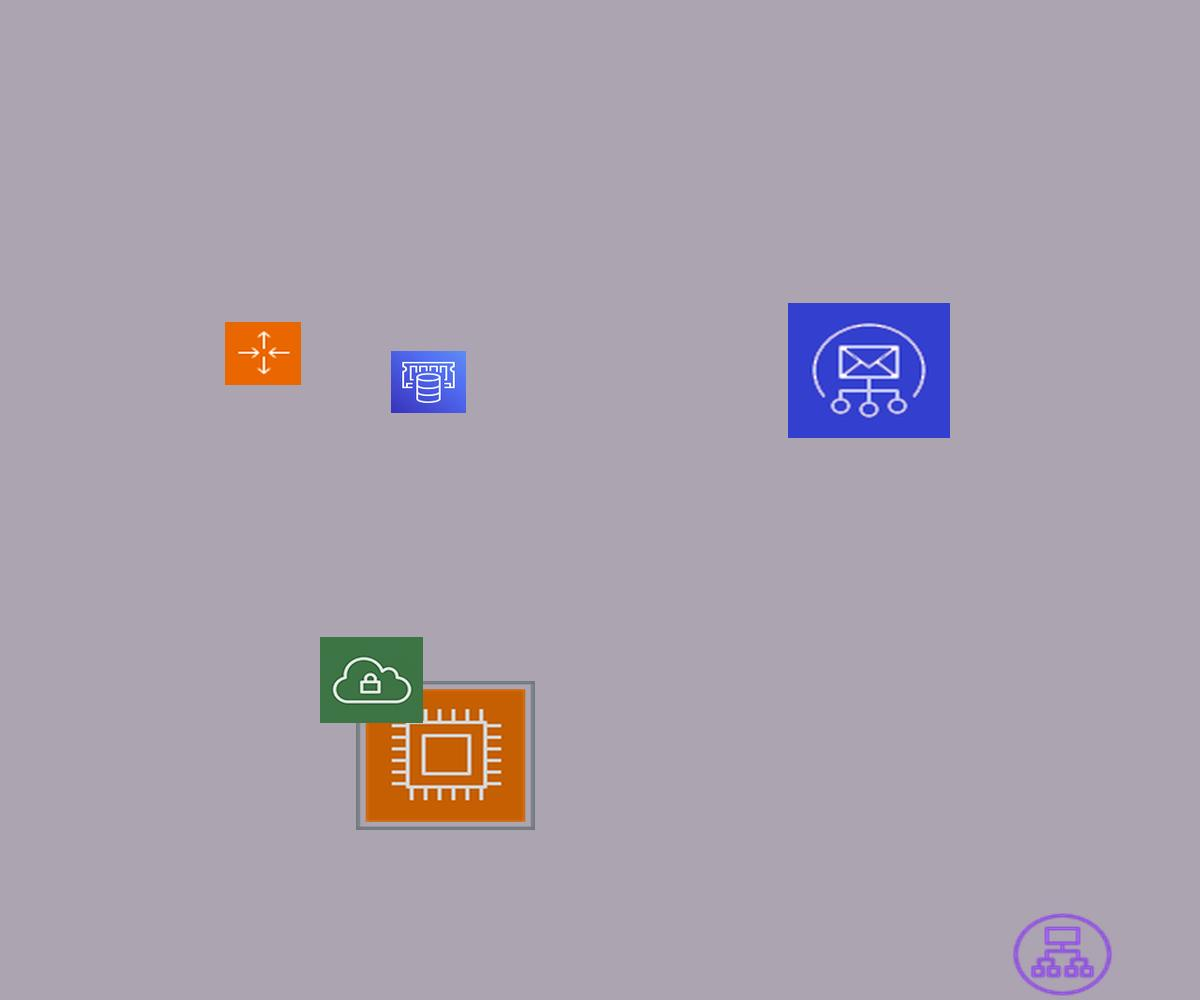AWS-Category_Compute: (356, 681, 535, 830)
AWS-ElastiCache: (391, 351, 466, 413)
AWS-Private_vpc: (320, 637, 423, 723)
AWS-Res_Elastic-Load-Balancing_Application-Load-Balancer: (1009, 910, 1116, 999)
AWS-Scaling-group: (225, 322, 301, 385)
AWS-Simple-Email-Service: (788, 303, 950, 438)
